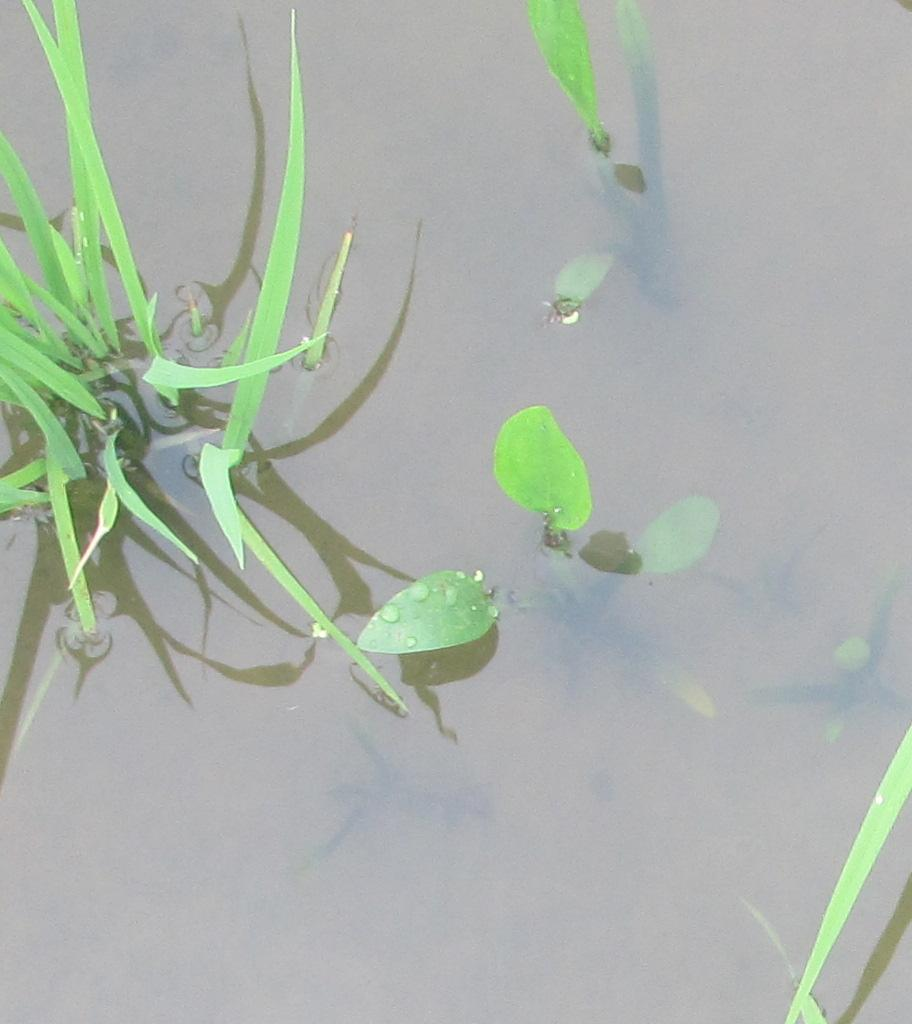Weed: (339, 564, 505, 669), (497, 403, 610, 549)
